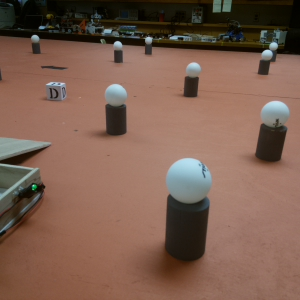blockD: (46, 81, 68, 106)
obstacle: (165, 156, 211, 261), (254, 98, 287, 162), (103, 84, 126, 132), (182, 62, 201, 99), (256, 50, 270, 75), (111, 41, 124, 61), (143, 36, 154, 59), (269, 42, 278, 60), (31, 37, 39, 55)
side: (1, 164, 48, 237)
slope: (1, 133, 53, 164)
start: (40, 63, 67, 72)
